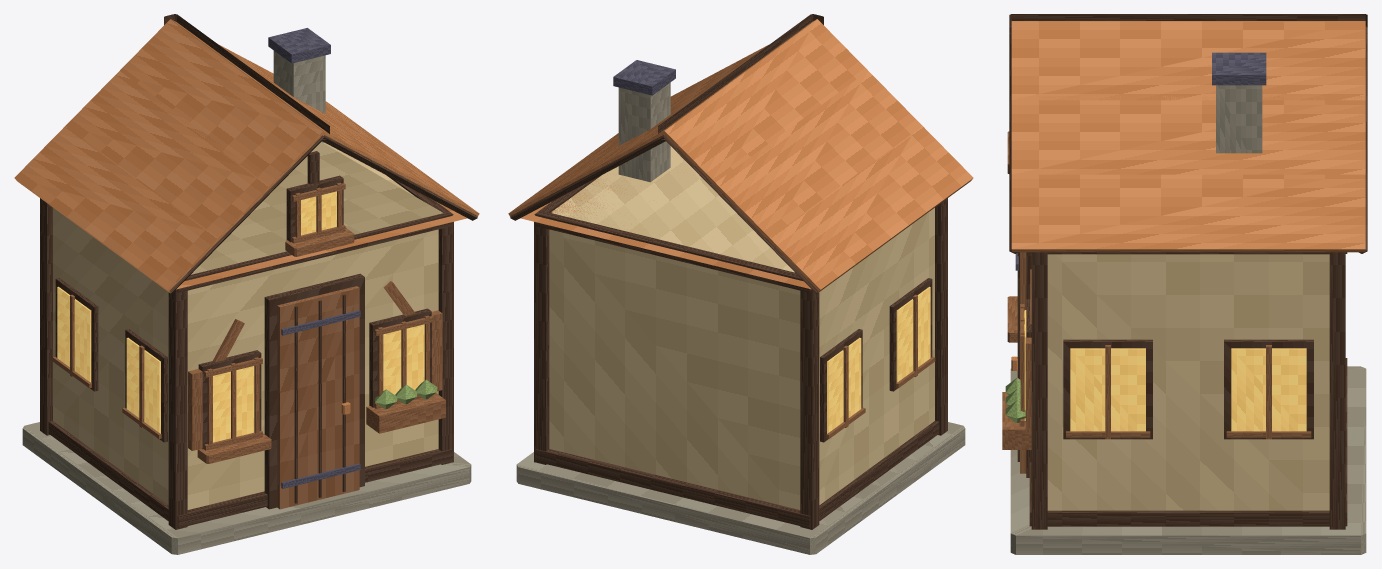
File: Maison_Toit_Orange.glb
3 renders of one model, left to right at view 1: azimuth 30°, elevation 25°; view 2: azimuth 150°, elevation 25°; view 3: azimuth 270°, elevation 25°, orthographic. The views are drawn at different scales.
Parts seen in each view (by area): view 1: Structure; view 2: Structure; view 3: Structure.
Part boxes in pixels (bbox=[...]): Structure: bbox=[14, 14, 479, 554]; Structure: bbox=[508, 14, 973, 554]; Structure: bbox=[1002, 14, 1367, 554].
Size of the model in its own units: 4.69 by 5.61 by 4.11.
Materials: 2 (2 with a texture image).
